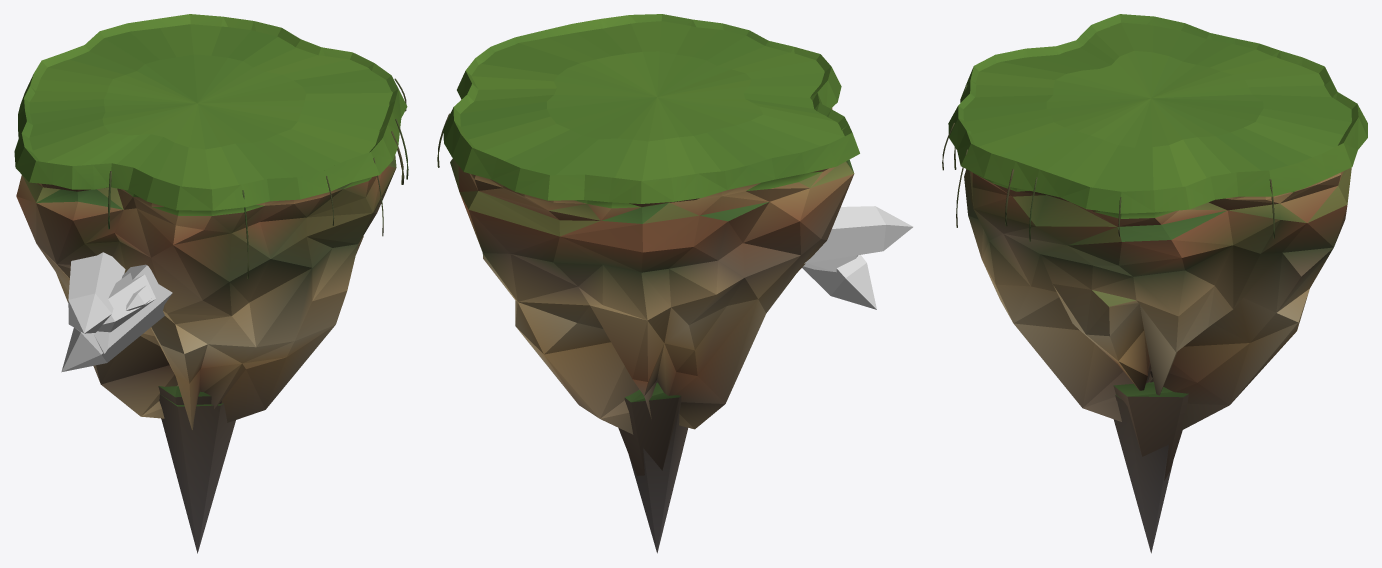
The model's file is FloatIsleC.glb.
The picture shows the model from 3 angles, left to right: view 1: azimuth 30°, elevation 25°; view 2: azimuth 150°, elevation 25°; view 3: azimuth 270°, elevation 25°; orthographic projection.
Visible parts, largest first — view 1: Isle.002, IsleTop.002, IsleCrystals.002, IsleVines.002; view 2: Isle.002, IsleTop.002, IsleCrystals.002; view 3: Isle.002, IsleTop.002, IsleVines.002.
Part boxes in pixels (left/top/right/bottom): Isle.002: left=14, top=14, right=407, bottom=553; IsleTop.002: left=29, top=24, right=392, bottom=189; IsleCrystals.002: left=61, top=252, right=172, bottom=372; IsleVines.002: left=108, top=78, right=408, bottom=278; Isle.002: left=443, top=14, right=859, bottom=553; IsleTop.002: left=460, top=21, right=844, bottom=180; IsleCrystals.002: left=802, top=206, right=913, bottom=309; Isle.002: left=948, top=14, right=1367, bottom=553; IsleTop.002: left=963, top=22, right=1351, bottom=191; IsleVines.002: left=942, top=84, right=1274, bottom=241.
Bounding box in the file's own units: 20.7 × 23.62 × 20.
